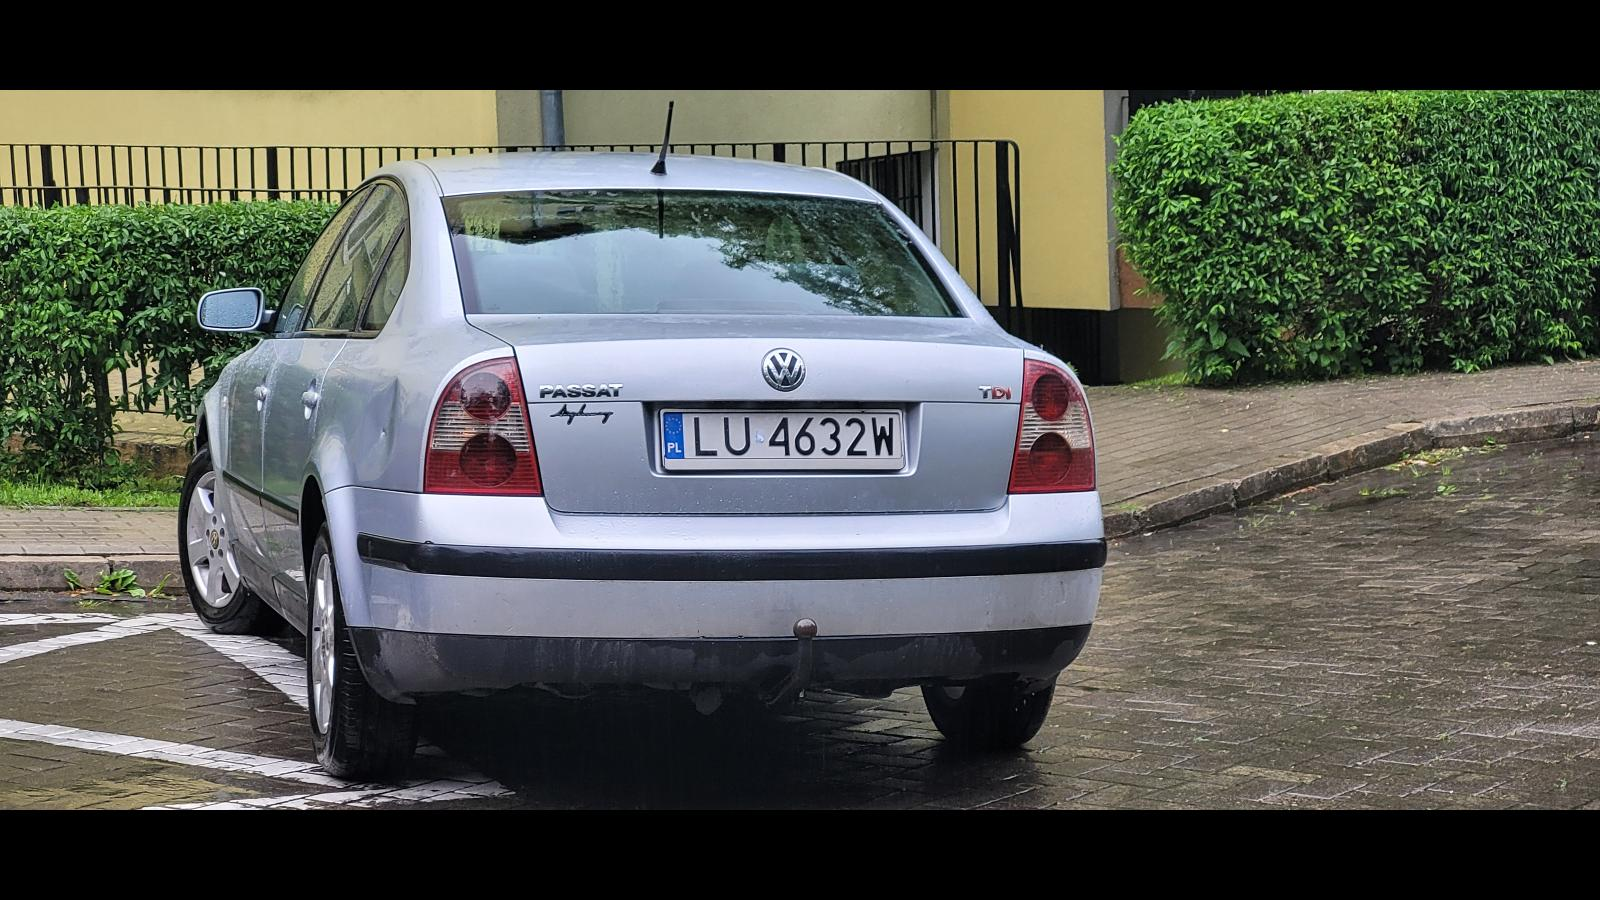plates: (660, 408, 906, 469)
